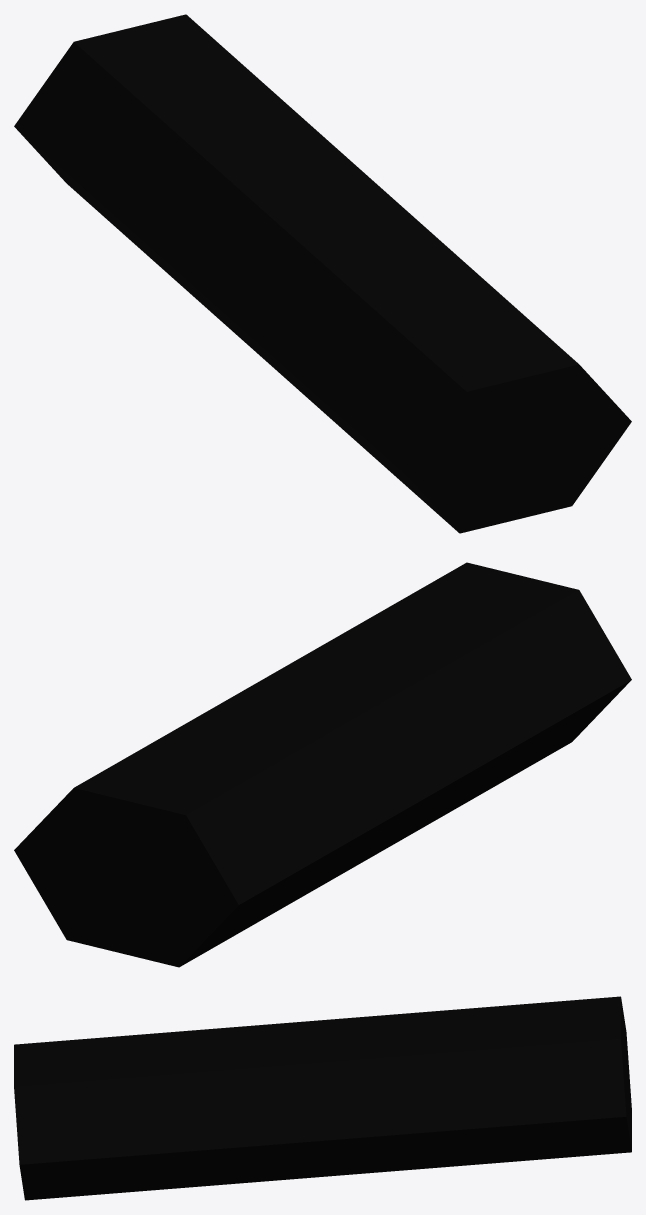
The model's file is yaw_damper_right_shaft.obj.
The picture shows the model from 3 angles, top to bottom: view 1: azimuth 30°, elevation 25°; view 2: azimuth 150°, elevation 25°; view 3: azimuth 270°, elevation 25°; orthographic projection. The views are drawn at different scales.
Visible parts, largest first — view 1: 94b507c3-5f2f-6ccf-846c-fa94ad4c0c01; view 2: 94b507c3-5f2f-6ccf-846c-fa94ad4c0c01; view 3: 94b507c3-5f2f-6ccf-846c-fa94ad4c0c01.
Part boxes in pixels (left/top/right/bottom): 94b507c3-5f2f-6ccf-846c-fa94ad4c0c01: left=14, top=14, right=631, bottom=533; 94b507c3-5f2f-6ccf-846c-fa94ad4c0c01: left=14, top=562, right=631, bottom=967; 94b507c3-5f2f-6ccf-846c-fa94ad4c0c01: left=14, top=996, right=631, bottom=1200.
Bounding box in the file's own units: 0.1296 × 0.1153 × 0.3993.
